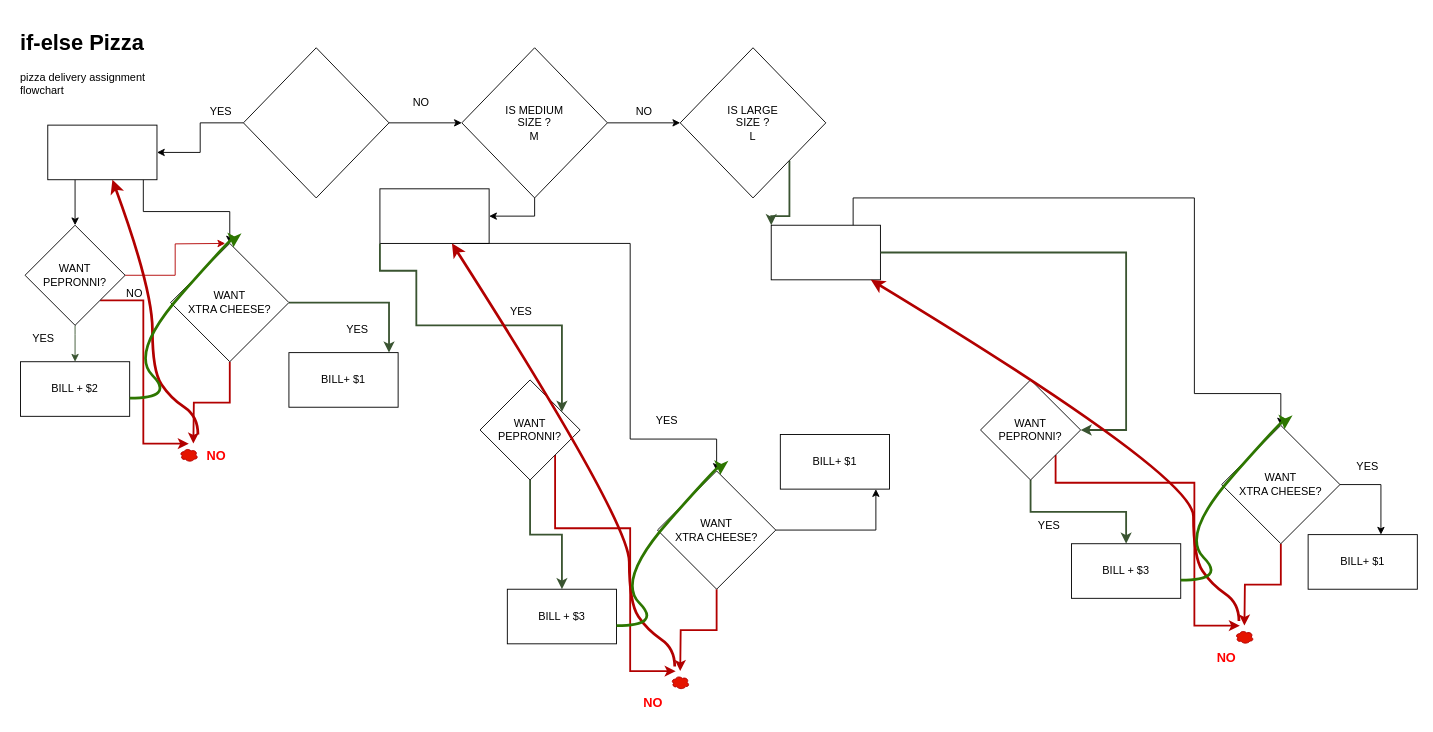
Image size: 1433x732. Some labels were removed from this diagram. Each missing label, with the centre of its shape:
"BILL = $15" belongs at (x=102, y=152).
"BILL = $20" belongs at (x=434, y=215).
"BILL = $25" belongs at (x=825, y=252).
"IS SMALL SIZE ? S" belongs at (x=316, y=122).
